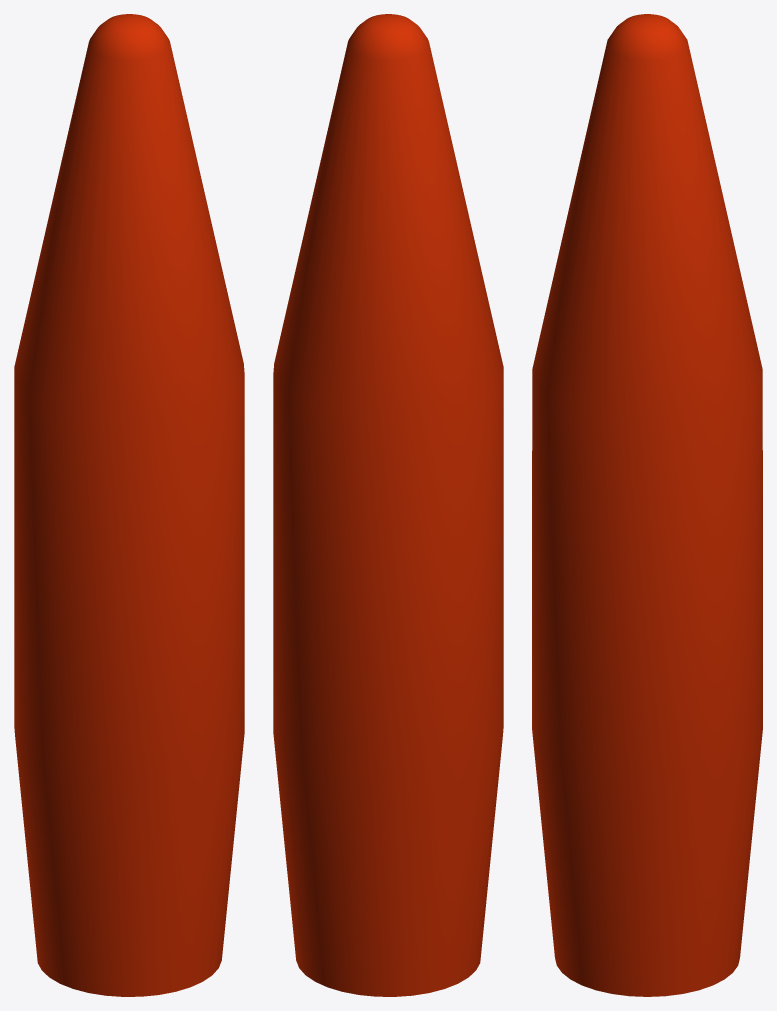
The model's file is 50bmg_bullet.fbx.
3 renders of one model, left to right at view 1: azimuth 30°, elevation 25°; view 2: azimuth 150°, elevation 25°; view 3: azimuth 270°, elevation 25°, orthographic.
Parts seen in each view (by area): view 1: Cylinder; view 2: Cylinder; view 3: Cylinder.
Part boxes in pixels (left/top/right/bottom): Cylinder: left=14, top=14, right=244, bottom=996; Cylinder: left=273, top=14, right=503, bottom=996; Cylinder: left=532, top=14, right=762, bottom=996.
Size of the model in its own units: 1.3 by 5.82 by 1.3.
